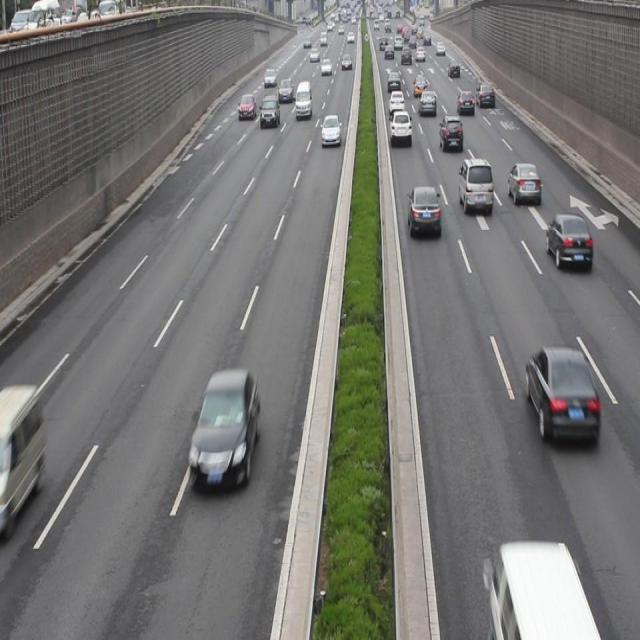car: (188, 366, 259, 490), (526, 346, 599, 442), (546, 212, 591, 270), (459, 156, 492, 216), (407, 186, 440, 237), (508, 160, 540, 207), (439, 112, 462, 152), (390, 109, 413, 146), (320, 112, 341, 146)
truck: (0, 384, 44, 521)
